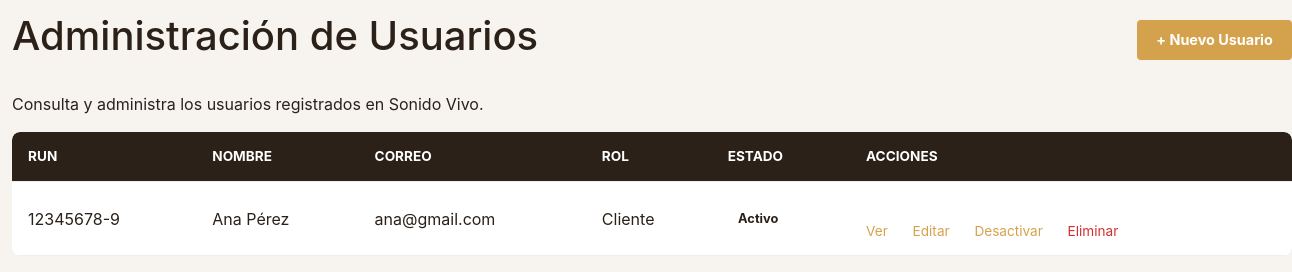
Test: Administración de usuarios › permite desactivar un usuario
Step 1. Click the button "Desactivar" → (1009, 231), box [974,221,1043,241]
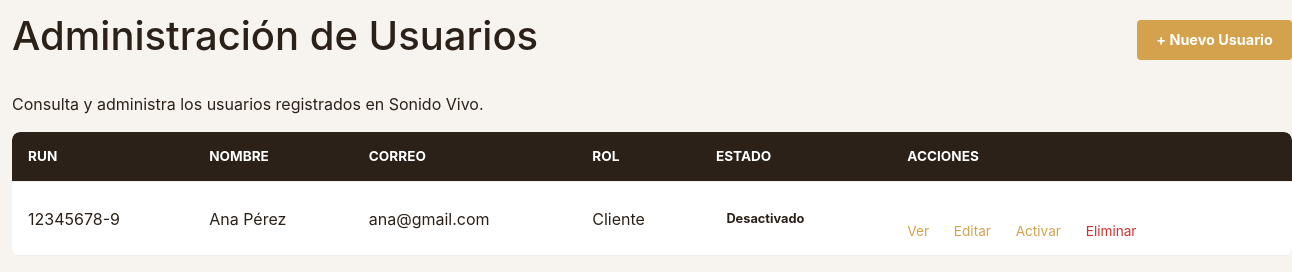
Expected: the text "Desactivado" is shown, [726,211,804,226]
